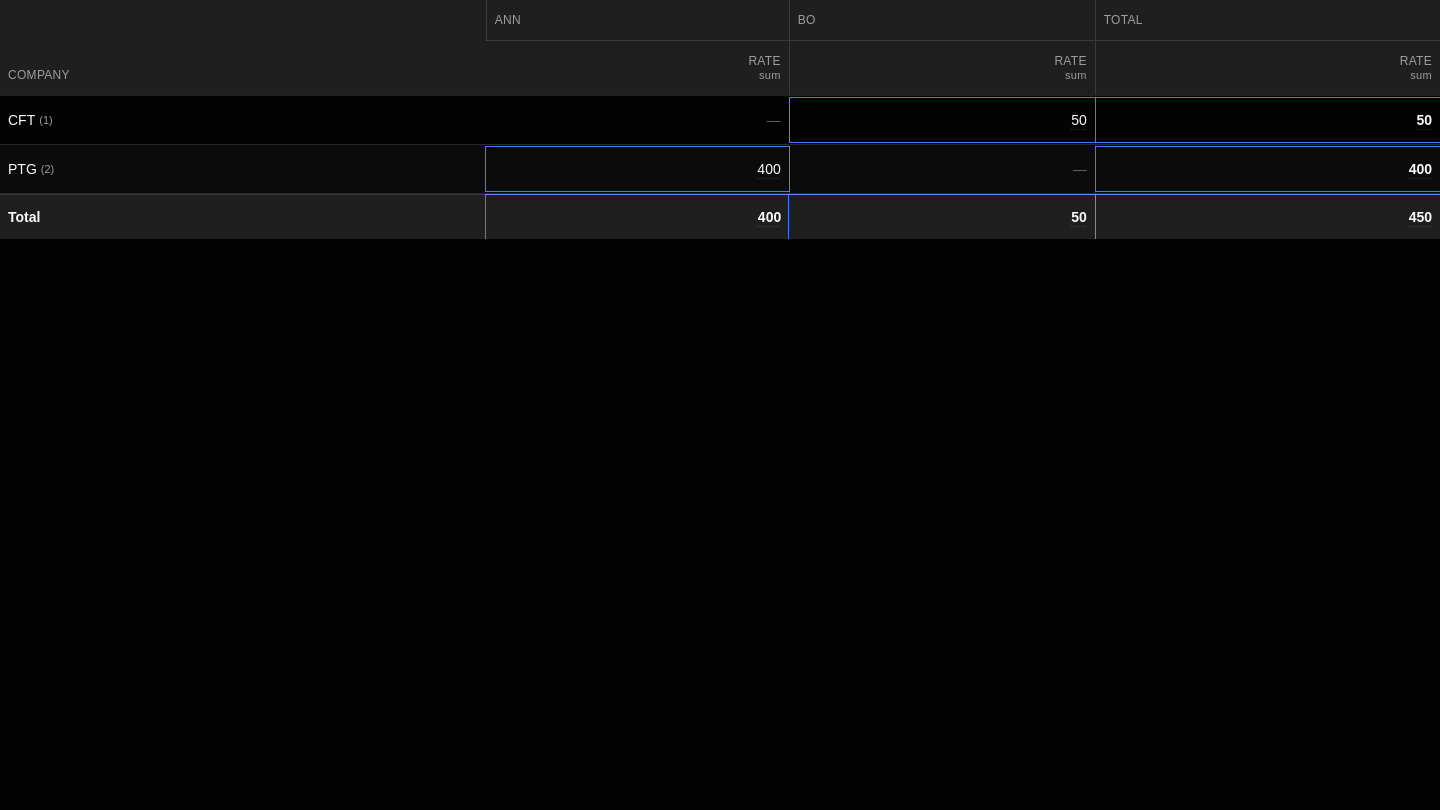
Test: the dialog answers for the cell that opened it › says which figure a Total came from
The width and height of the screenshot is (1440, 810).
What coordinates should you click on to do the following:
click the 2nd button "400"
I would click on:
 (1420, 169)
Its box is [1096,147,1439,191].
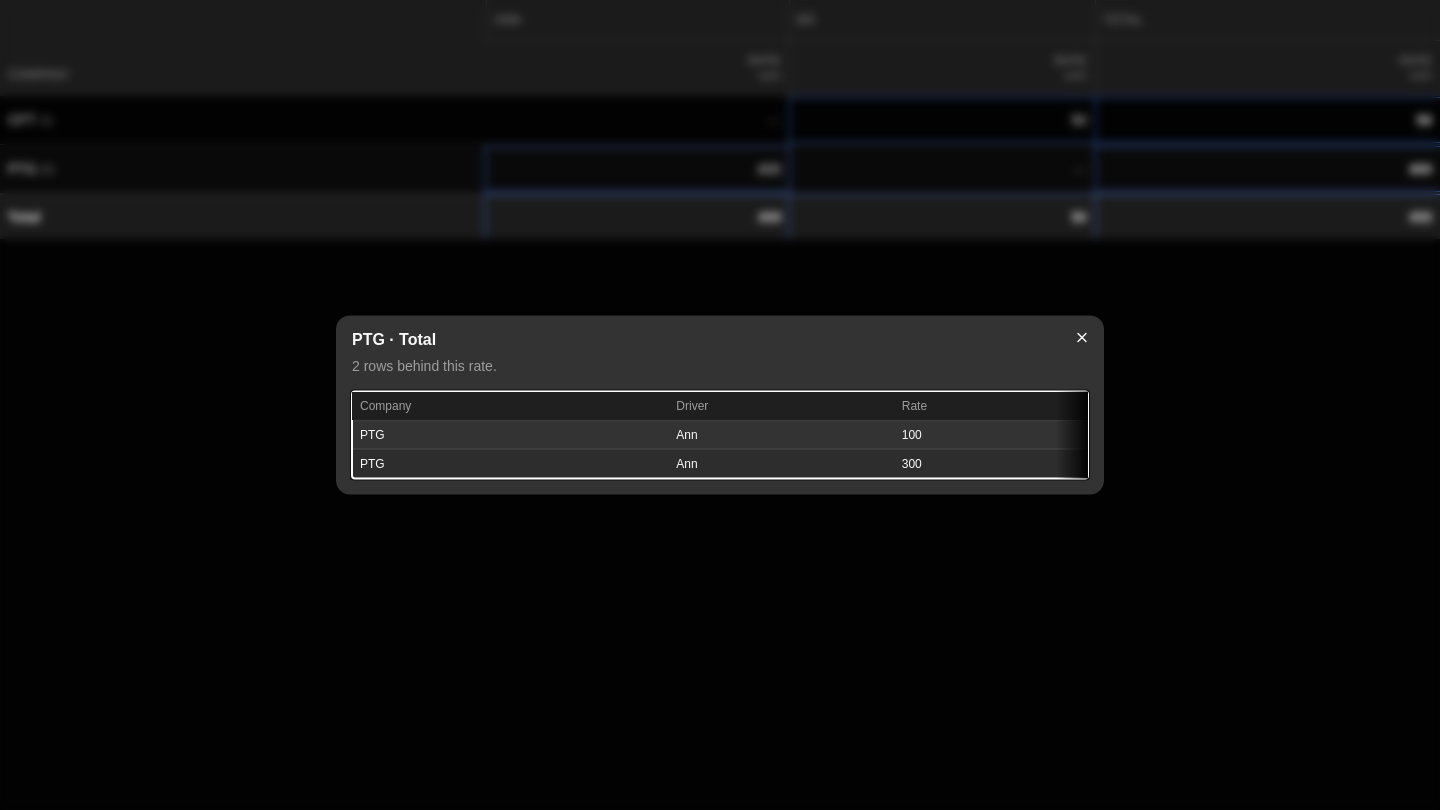
Expected: the dialog shows "Total", [385,330,436,348]
